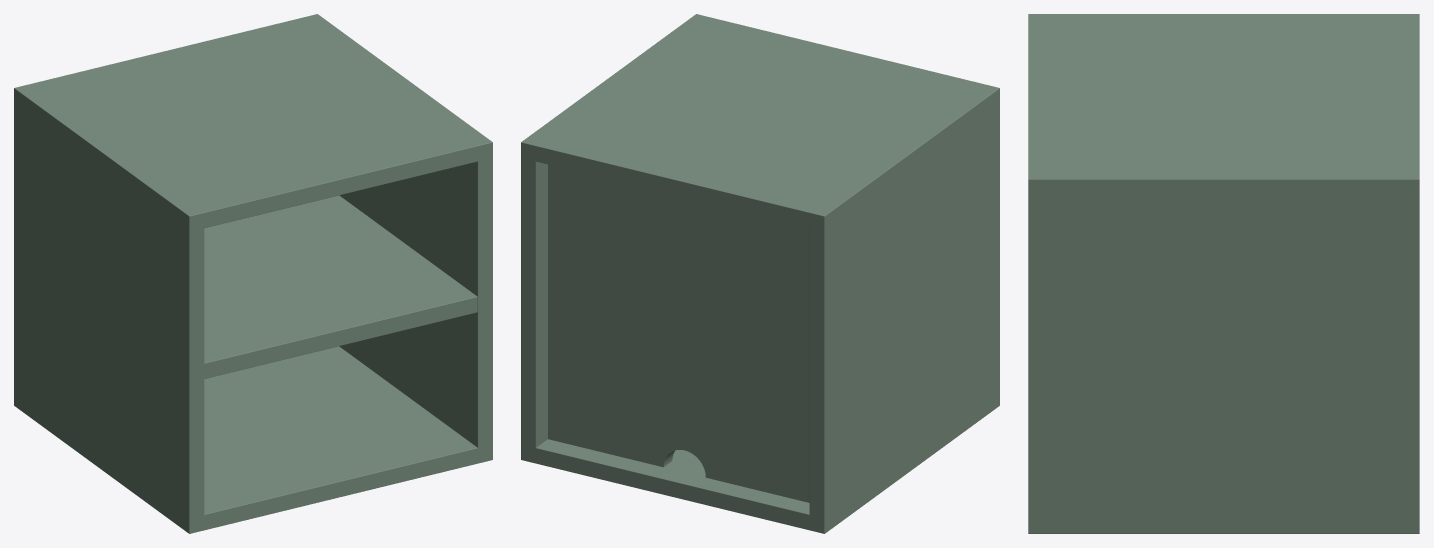
The model's file is MOD_1X1_S_B_AP_VA.glb.
3 views of the same model, side by side, from view 1: azimuth 30°, elevation 25°; view 2: azimuth 150°, elevation 25°; view 3: azimuth 270°, elevation 25° (orthographic). The views are drawn at different scales.
Size of the model in its own units: 360 by 360 by 360.
